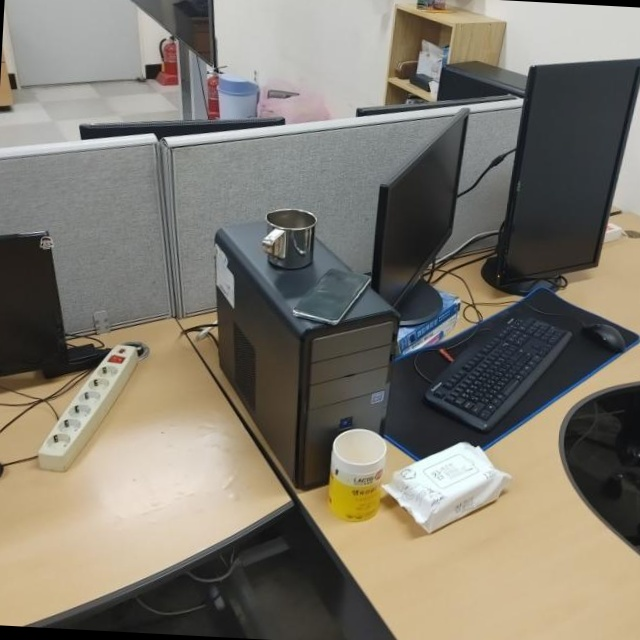cup: (260, 205, 318, 272)
phone: (292, 264, 371, 326)
